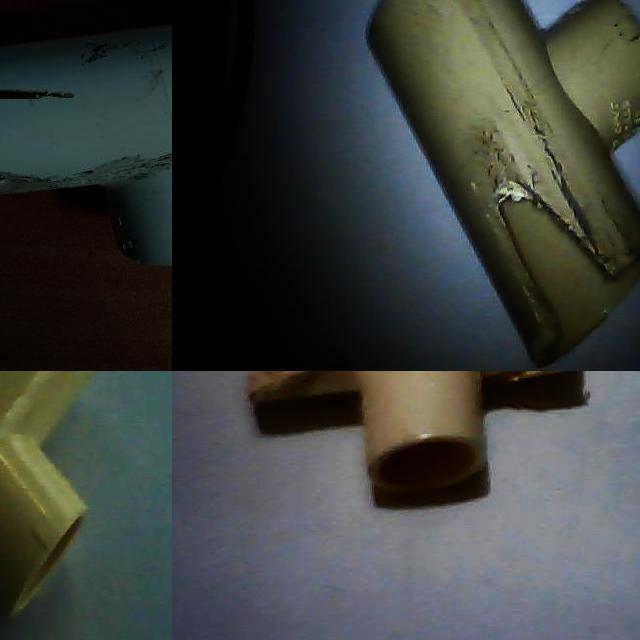Defective: (489, 187, 609, 331), (0, 66, 79, 142), (229, 371, 362, 403), (489, 371, 593, 403), (0, 158, 69, 204), (78, 155, 172, 188), (78, 155, 172, 188)
T Joint: (366, 0, 640, 371), (247, 371, 573, 489)
